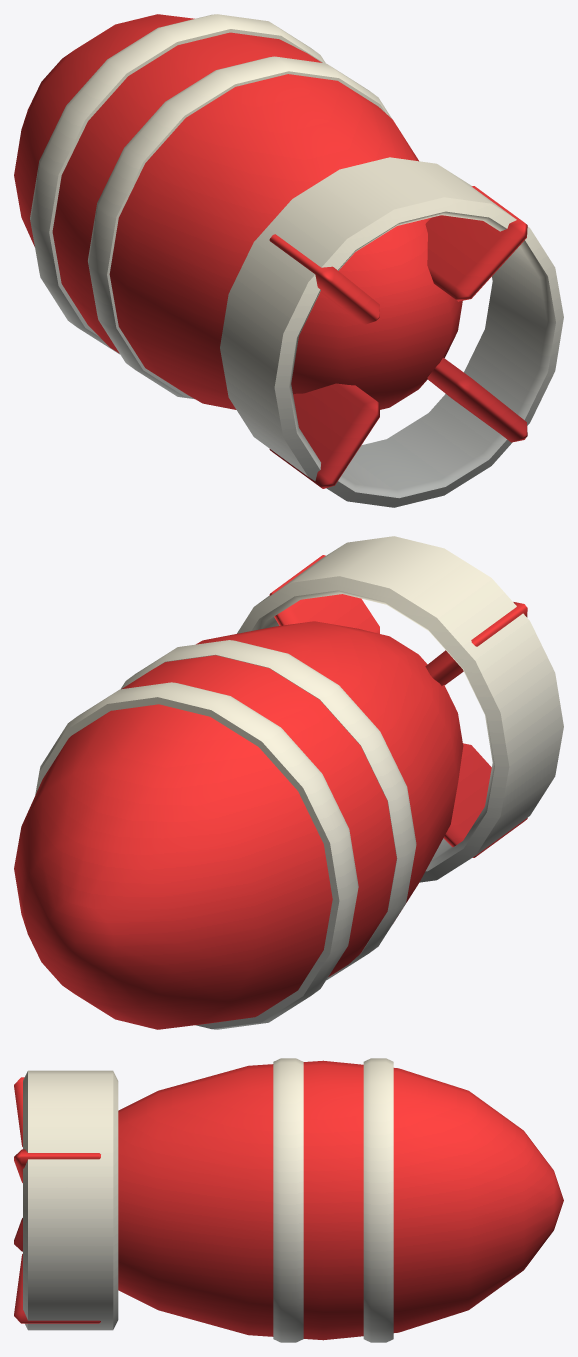
Rendered from bomb-blast.glb.
3 views of the same model, one above another, from view 1: azimuth 30°, elevation 25°; view 2: azimuth 150°, elevation 25°; view 3: azimuth 270°, elevation 25° (orthographic). The views are drawn at different scales.
Parts seen in each view (by area): view 1: bomb-blast Shockwave red, bomb-blast Warm white; view 2: bomb-blast Shockwave red, bomb-blast Warm white; view 3: bomb-blast Shockwave red, bomb-blast Warm white.
Boxes of the visible parts, x1,y1,x2,y2 form: bomb-blast Shockwave red: (14, 14, 527, 488); bomb-blast Warm white: (30, 14, 563, 507); bomb-blast Shockwave red: (14, 555, 527, 1029); bomb-blast Warm white: (35, 536, 563, 1029); bomb-blast Shockwave red: (14, 1060, 563, 1340); bomb-blast Warm white: (23, 1058, 393, 1342).
Bounding box in the file's own units: 0.57 × 0.5613 × 1.1.
Materials: 3 (3 with a texture image).
